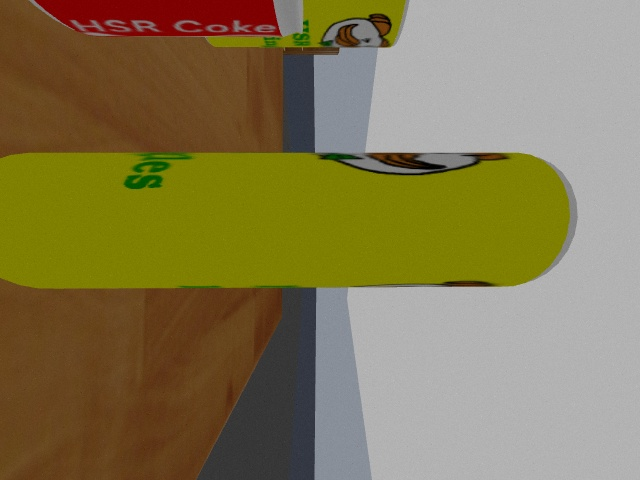chipsdose_gelb: (1, 152, 578, 289), (204, 1, 410, 48)
